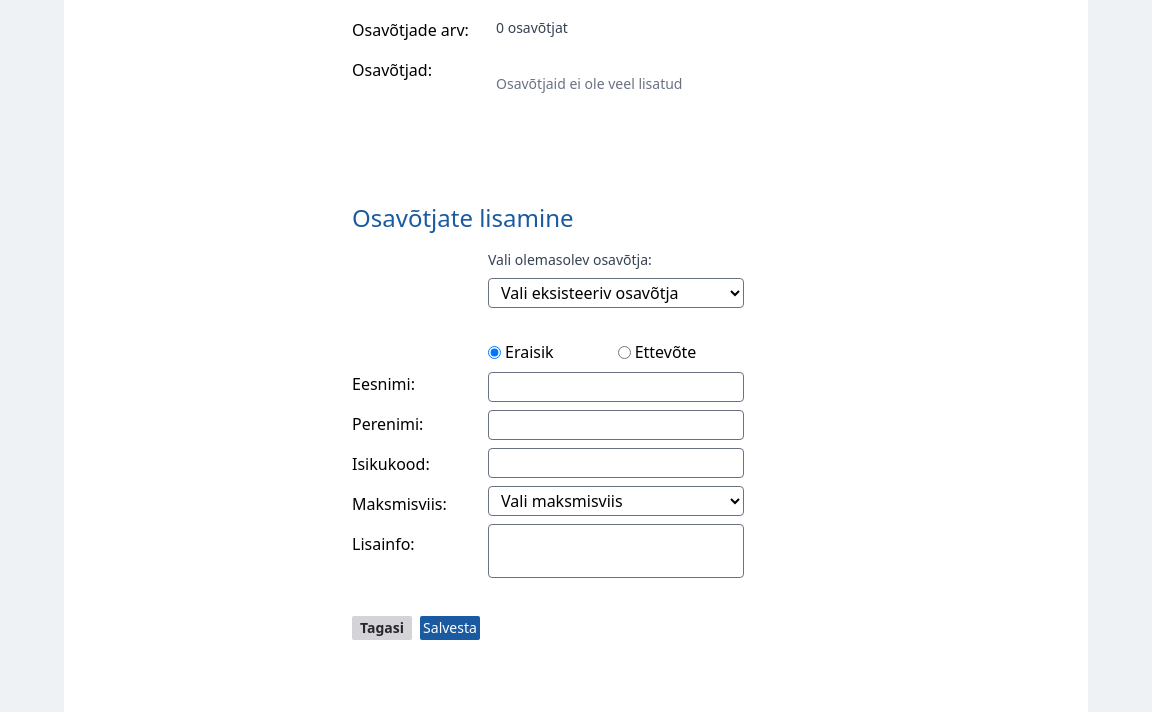
it: Osavõtjate vormi testid › Osavõtja tüübi valimine › lülitub eraisiku ja ettevõtte vormide vahel
The image size is (1152, 712).
(page scrolled)
Check: the text "Eesnimi:" is shown, box left=352, top=373, right=415, bottom=395
Check: the text "Perenimi:" is shown, box left=352, top=413, right=423, bottom=435
Click the radio button labelled "Ettevõte". click: click(624, 352)
box: left=618, top=346, right=631, bottom=358
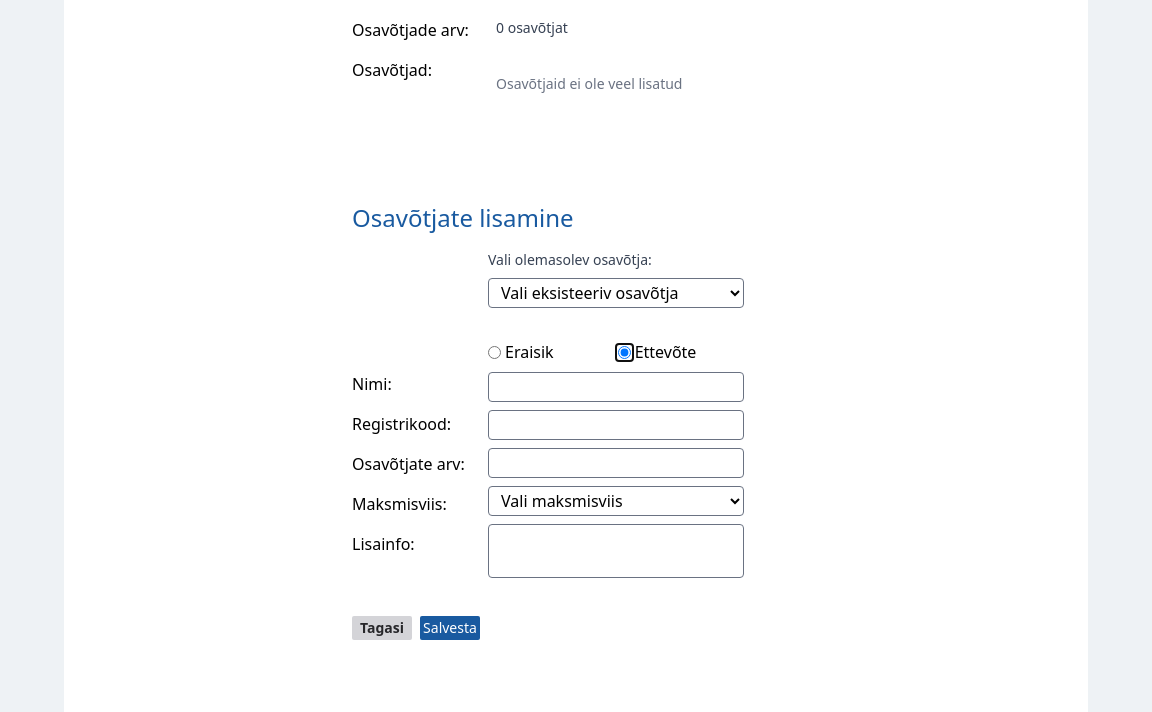
Check: the text "Nimi:" is shown, box left=352, top=373, right=392, bottom=395
Check: the text "Registrikood:" is shown, box left=352, top=413, right=451, bottom=435
Check: the text "Osavõtjate arv:" is shown, box left=352, top=453, right=465, bottom=475
